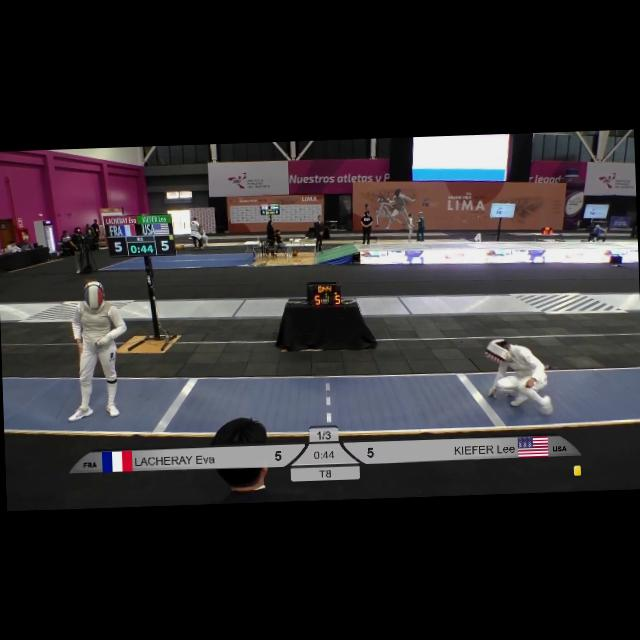blade: (52, 339, 106, 418)
